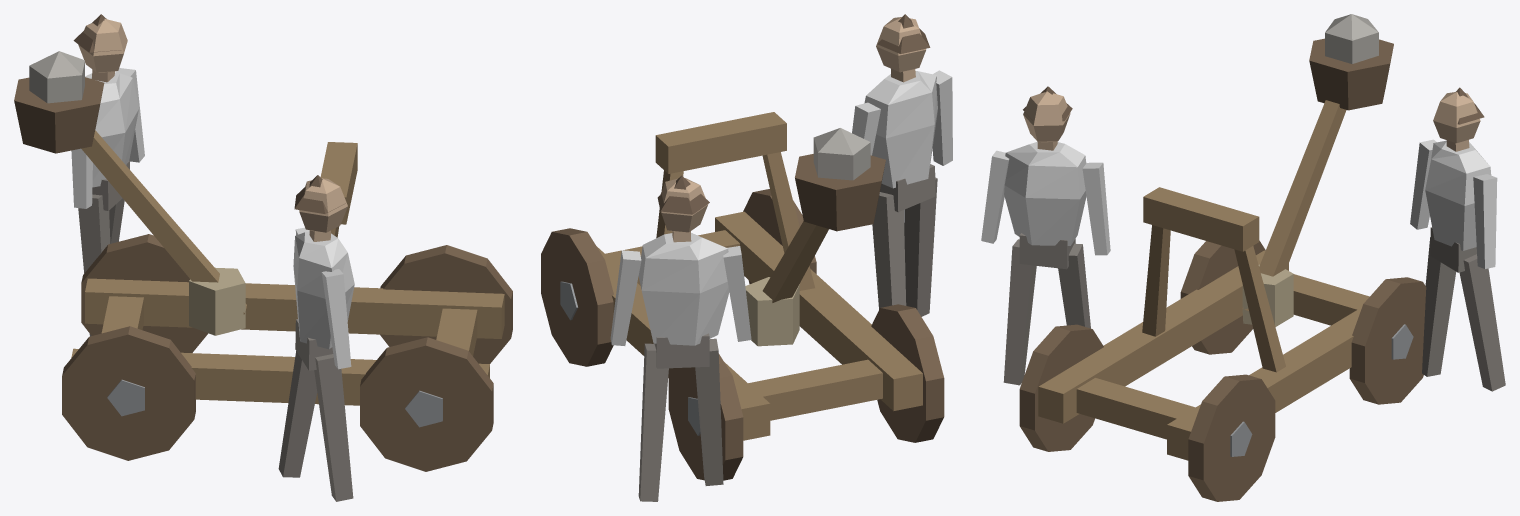
File: catapult.glb
3 views of the same model, side by side, from view 1: azimuth 30°, elevation 25°; view 2: azimuth 150°, elevation 25°; view 3: azimuth 270°, elevation 25° (orthographic). The views are drawn at different scales.
Parts seen in each view (by area): view 1: LOD0; view 2: LOD0; view 3: LOD0.
Boxes of the visible parts, x1,y1,x2,y2 form: LOD0: [14, 14, 512, 501]; LOD0: [541, 14, 952, 501]; LOD0: [981, 14, 1505, 501].
Size of what is drawn, in the model's own units: 0.9849 by 0.79 by 1.12.
